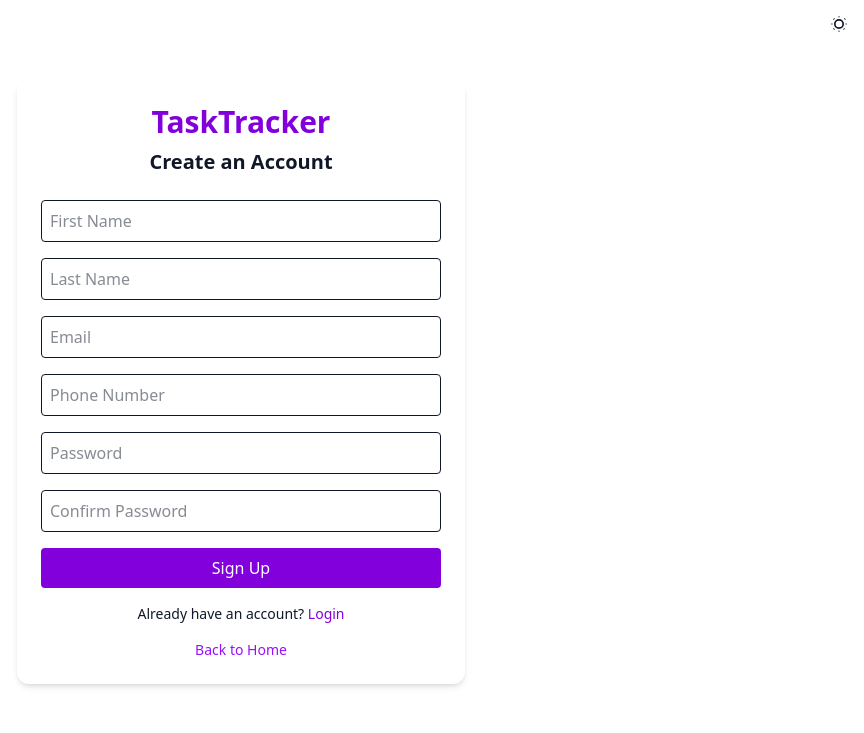
Test: SignupPage › shows client-side validation error for invalid email
The width and height of the screenshot is (864, 733).
Type "Test" into the field with placeholder "First Name". click: (241, 221)
box: [41,200,441,242]
Type "User" into the field with placeholder "Last Name". click: (241, 279)
box: [41,258,441,300]
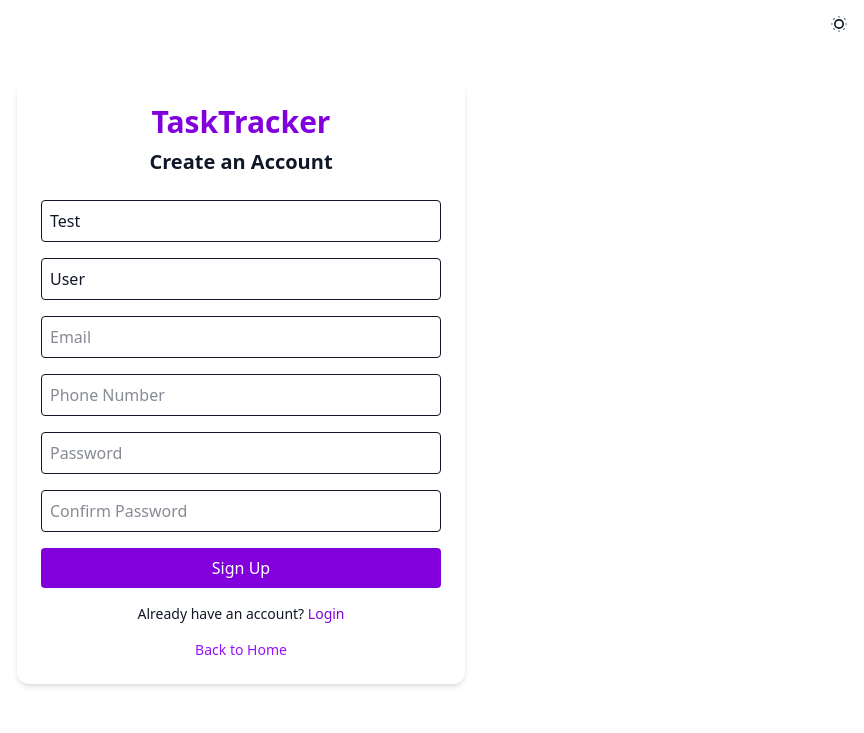
Type "invalid-email" into the field with placeholder "Email". click: (241, 337)
box: [41,316,441,358]
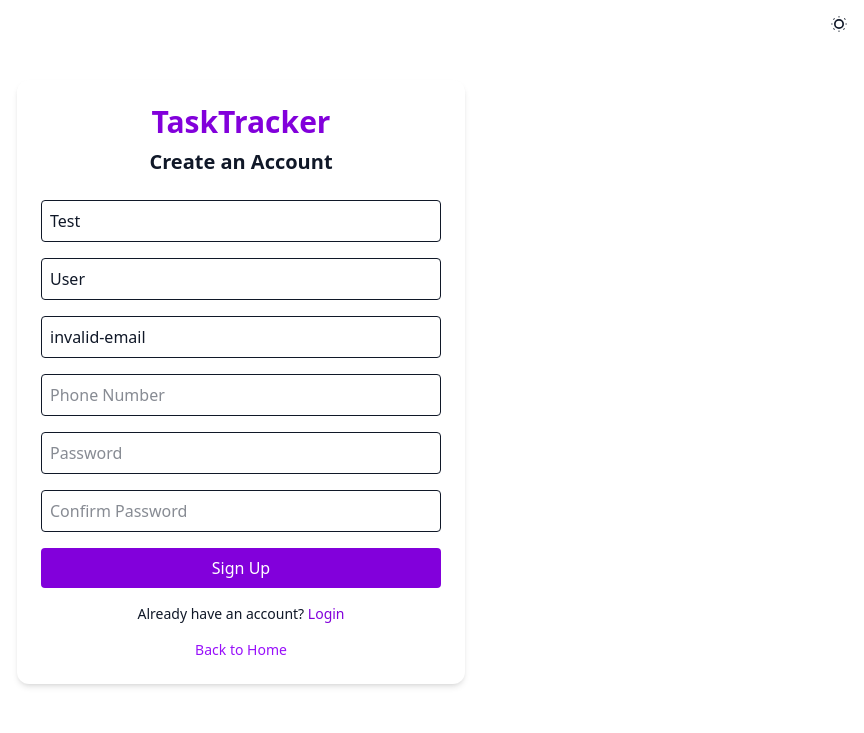
Type "1234567890" into the field with placeholder "Phone Number". click: (241, 395)
box: [41,374,441,416]
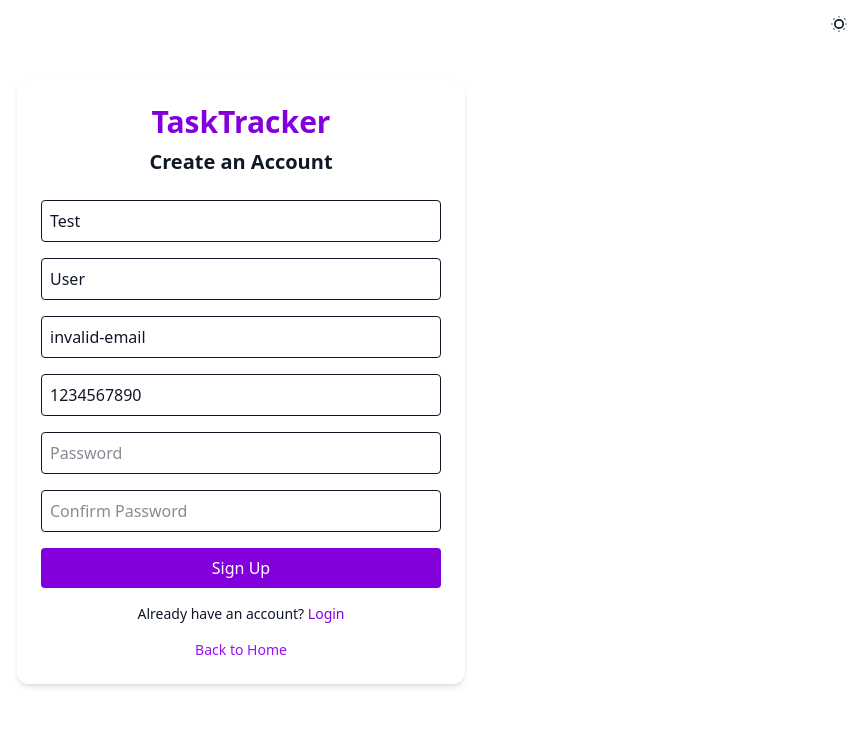
Type "Password123!" into the password field with placeholder "Password". click: (241, 453)
box: [41,432,441,474]
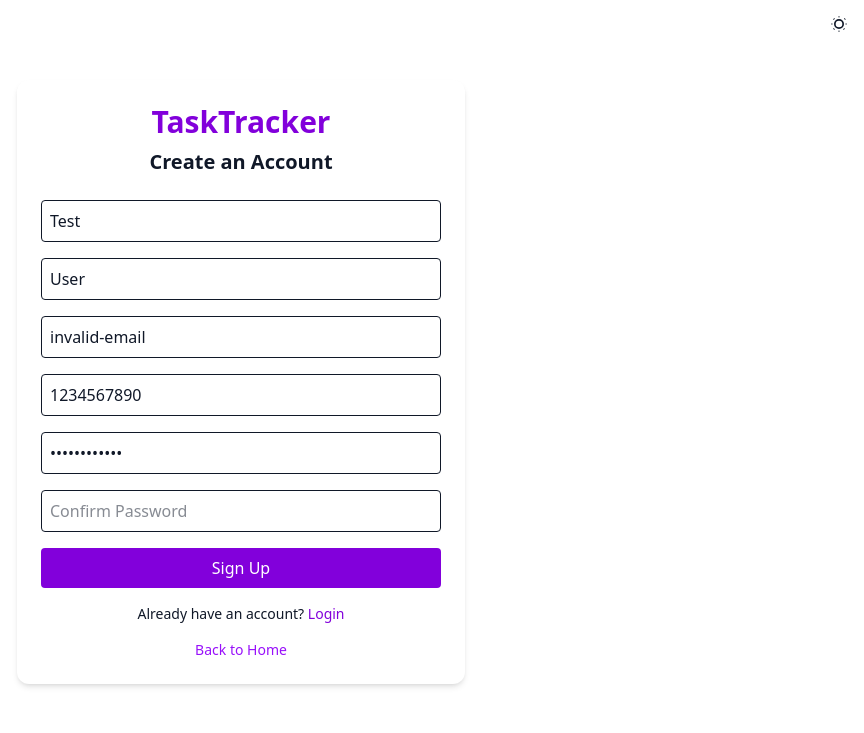
Type "Password123!" into the password field with placeholder "Confirm Password". click: (241, 511)
box: [41,490,441,532]
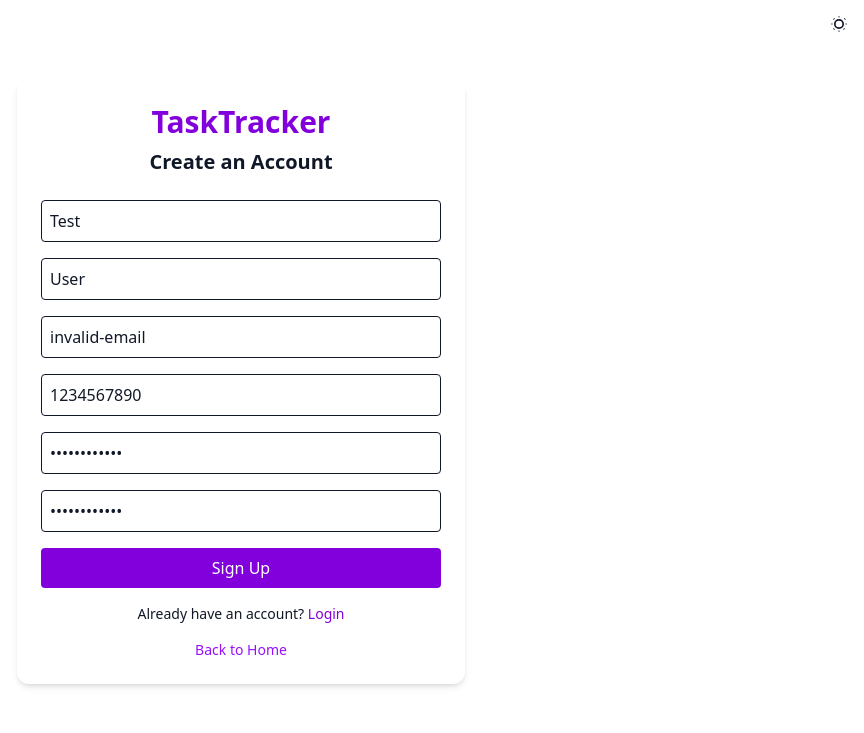
Submit the form "Sign Up Already have an account? Login", box [41,200,441,624]
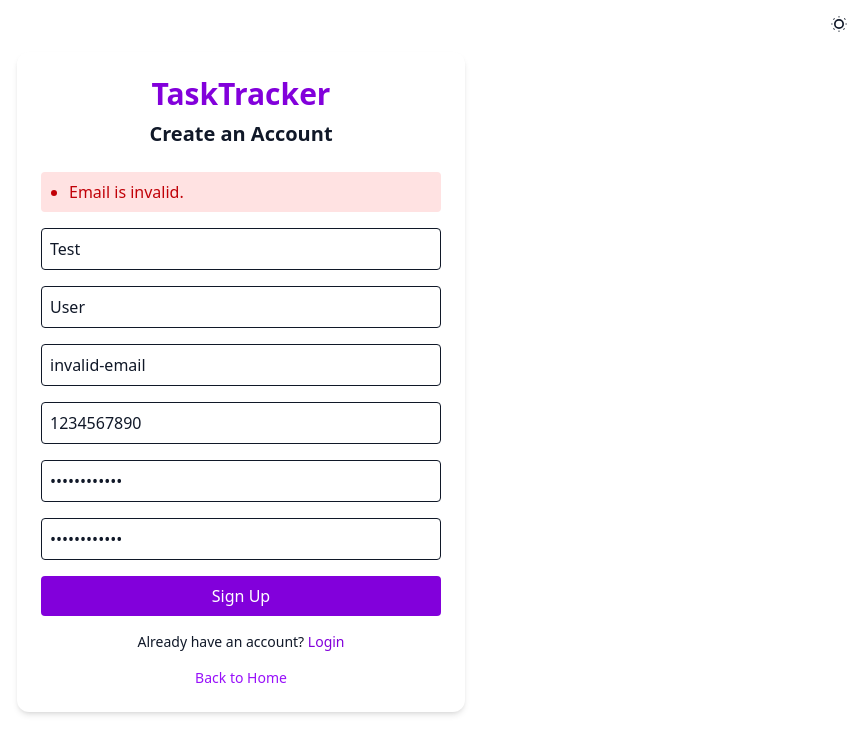
Now the list item "Email is invalid." is shown, box [69,181,184,203]
